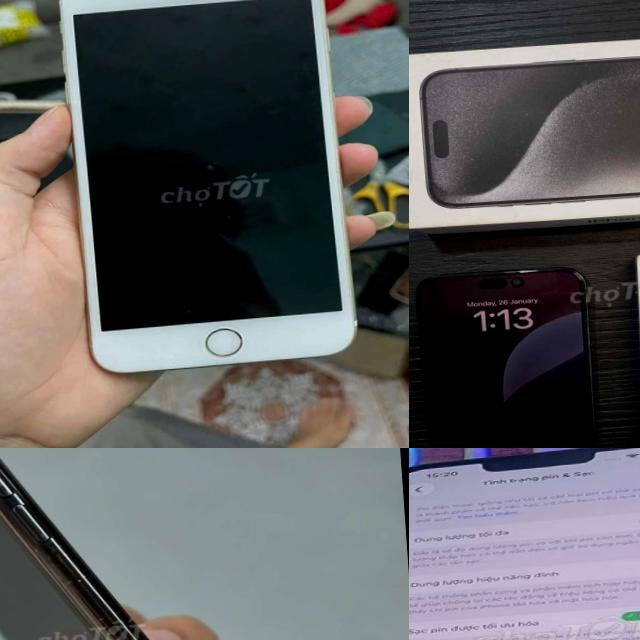scratch: (7, 508, 96, 596), (81, 600, 118, 637), (121, 630, 160, 640)
